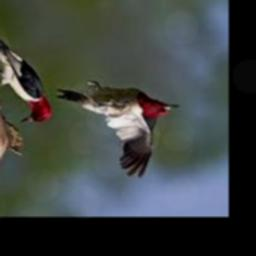Woodpecker: (56, 81, 180, 178), (0, 26, 53, 124)
